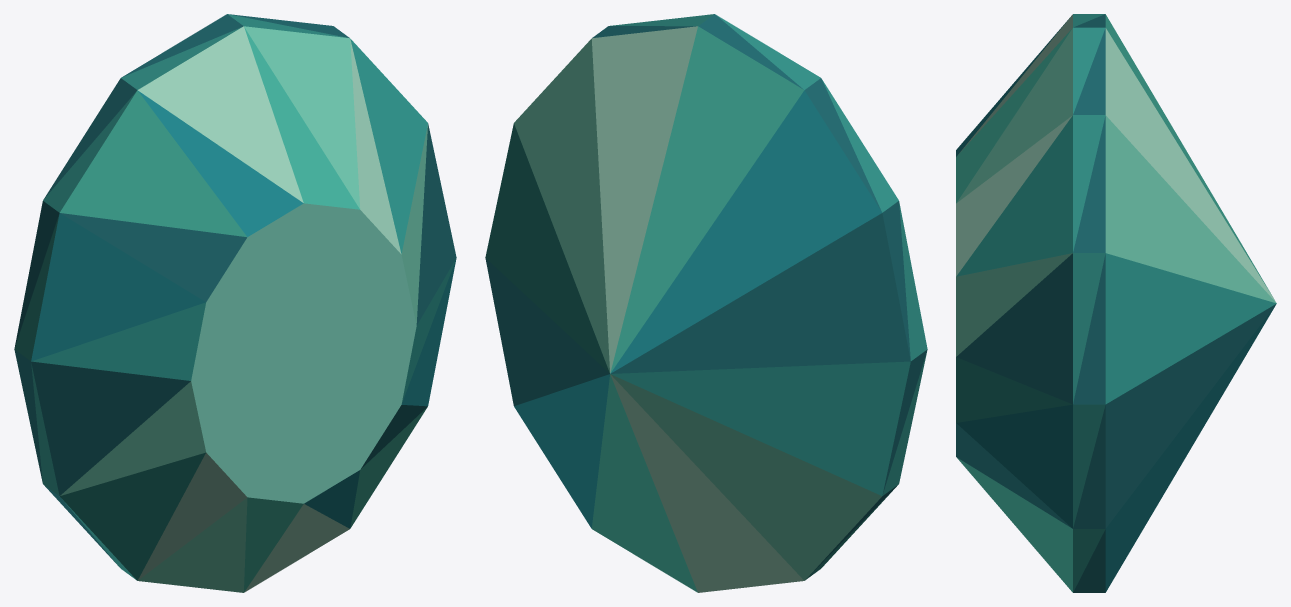
File: Loch_Gem.glb
The picture shows the model from 3 angles, left to right: view 1: azimuth 30°, elevation 25°; view 2: azimuth 150°, elevation 25°; view 3: azimuth 270°, elevation 25°; orthographic projection. The views are drawn at different scales.
Parts seen in each view (by area): view 1: Loch_cut_gem; view 2: Loch_cut_gem; view 3: Loch_cut_gem.
Part boxes in pixels (left/top/right/bottom): Loch_cut_gem: left=14, top=14, right=456, bottom=592; Loch_cut_gem: left=485, top=14, right=927, bottom=592; Loch_cut_gem: left=956, top=14, right=1276, bottom=592.
Bounding box in the file's own units: 0.88 × 1.12 × 0.59.
